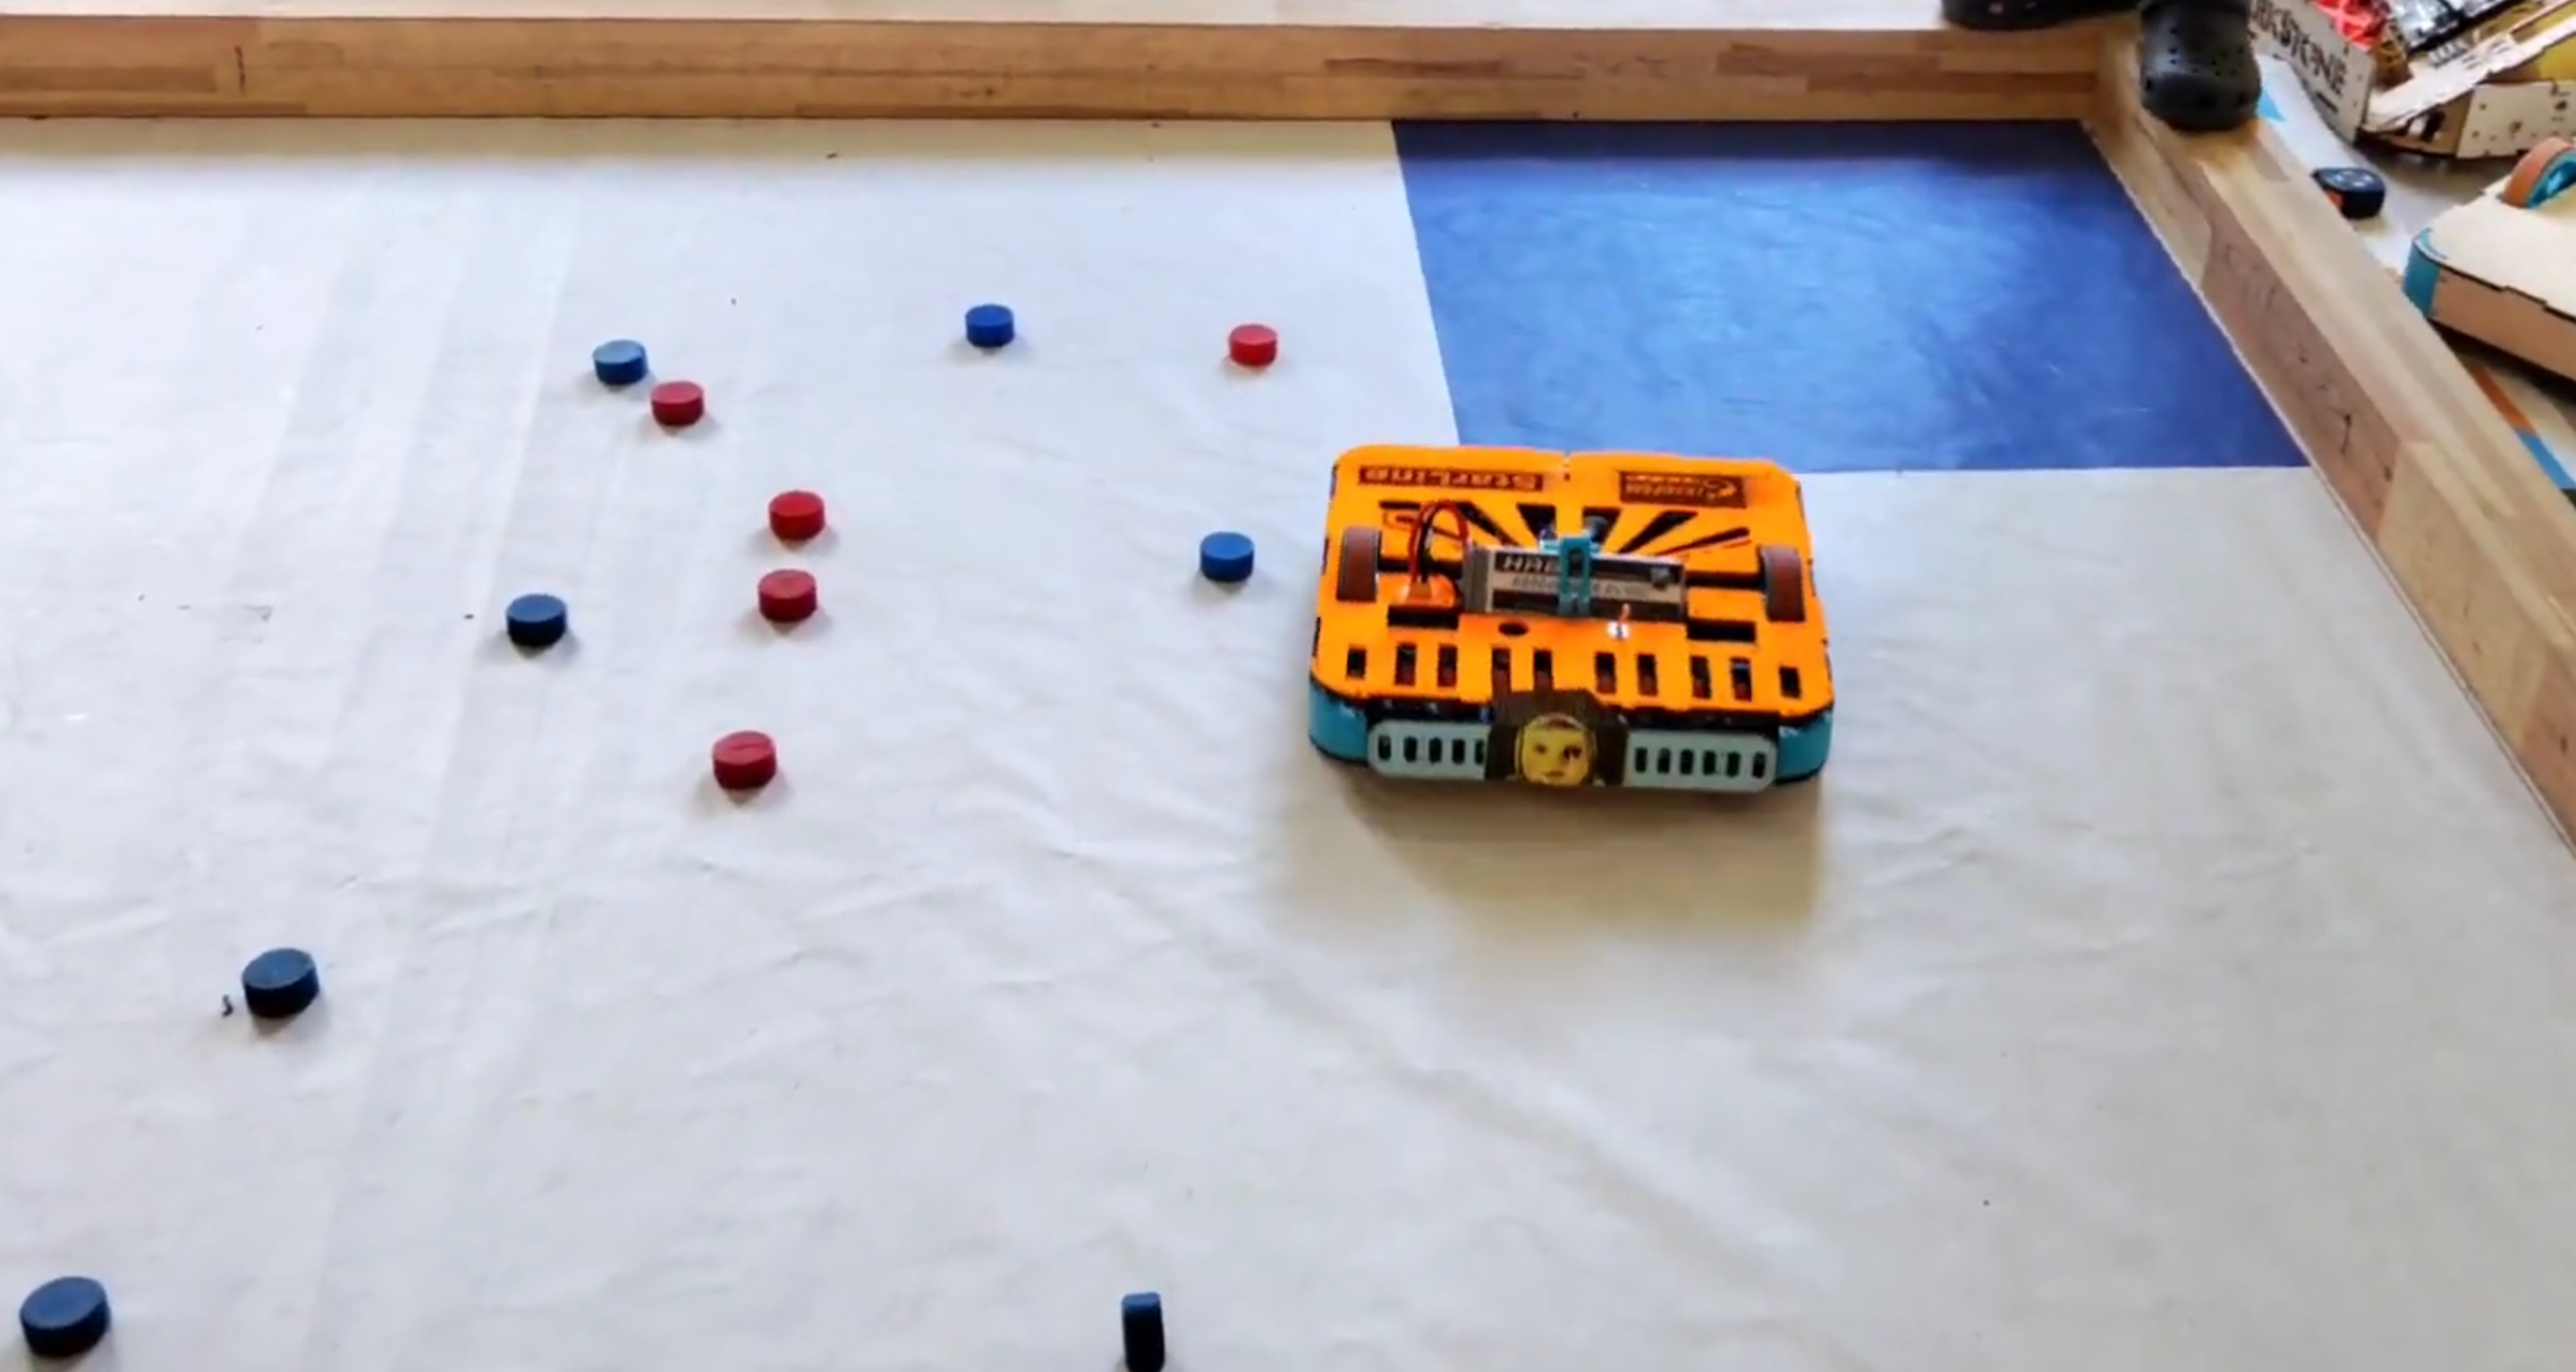blue_puck: (22, 1273, 112, 1357), (240, 948, 319, 1019), (1119, 1294, 1164, 1372), (506, 593, 567, 646), (1198, 532, 1254, 581), (964, 303, 1014, 348), (595, 339, 646, 382)
red_puck: (714, 729, 775, 786), (756, 569, 819, 620), (767, 491, 826, 539), (649, 378, 704, 424), (1228, 322, 1279, 368)
